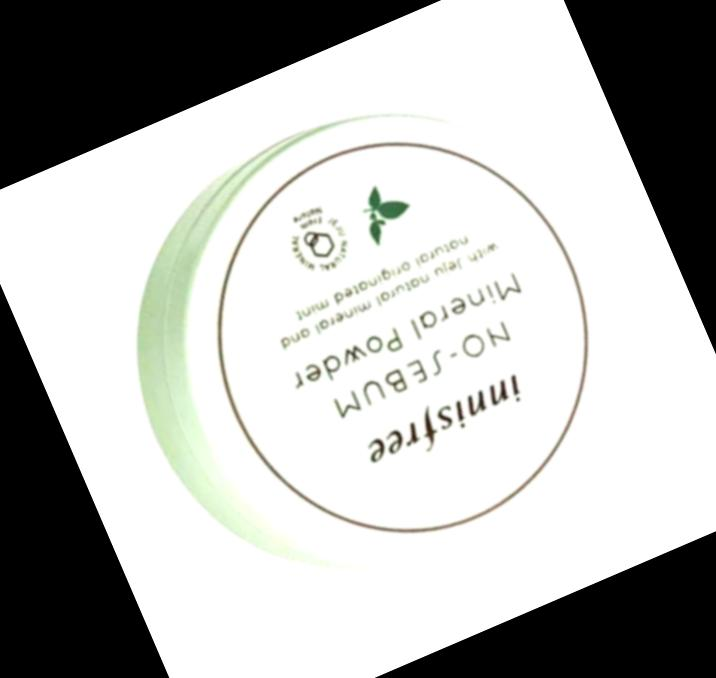cosmetic: (80, 54, 675, 640)
